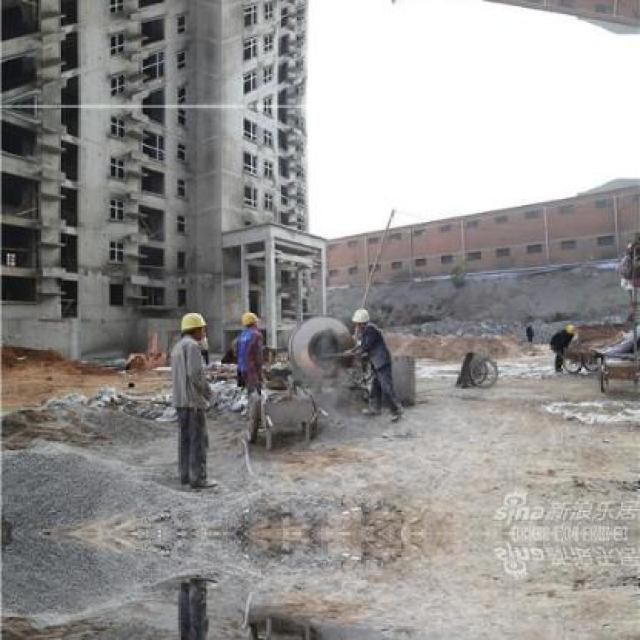helmet: (181, 309, 207, 343), (350, 306, 370, 331), (241, 312, 261, 331)
